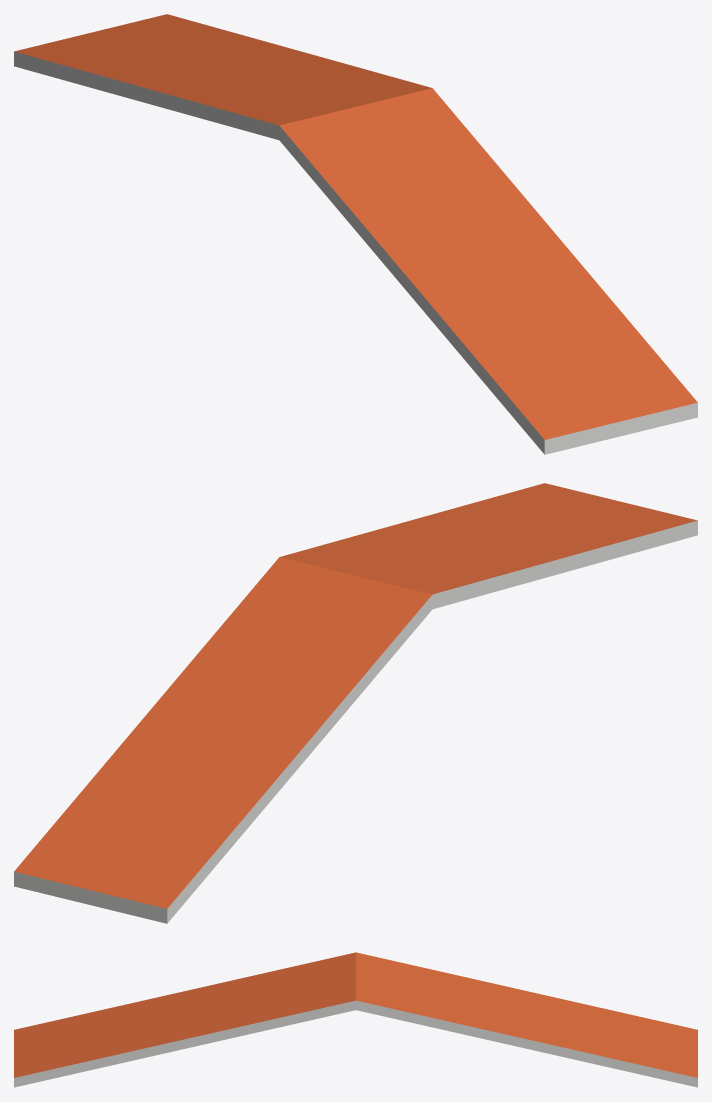
File: telhado_duas_aguas_v6_i25_1m.glb
3 views of the same model, one above another, from view 1: azimuth 30°, elevation 25°; view 2: azimuth 150°, elevation 25°; view 3: azimuth 270°, elevation 25° (orthographic). The views are drawn at different scales.
Parts seen in each view (by area): view 1: telhado_duas_aguas_v6_i25_1m; view 2: telhado_duas_aguas_v6_i25_1m; view 3: telhado_duas_aguas_v6_i25_1m.
Boxes of the visible parts, x1,y1,x2,y2 form: telhado_duas_aguas_v6_i25_1m: [14, 14, 697, 454]; telhado_duas_aguas_v6_i25_1m: [14, 483, 697, 923]; telhado_duas_aguas_v6_i25_1m: [14, 952, 697, 1087].
Bounding box in the file's own units: 1 × 0.8428 × 6.
